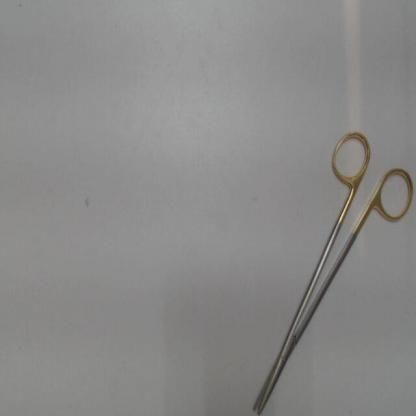7 Metzenbaum Scissors: (252, 125, 416, 414)
